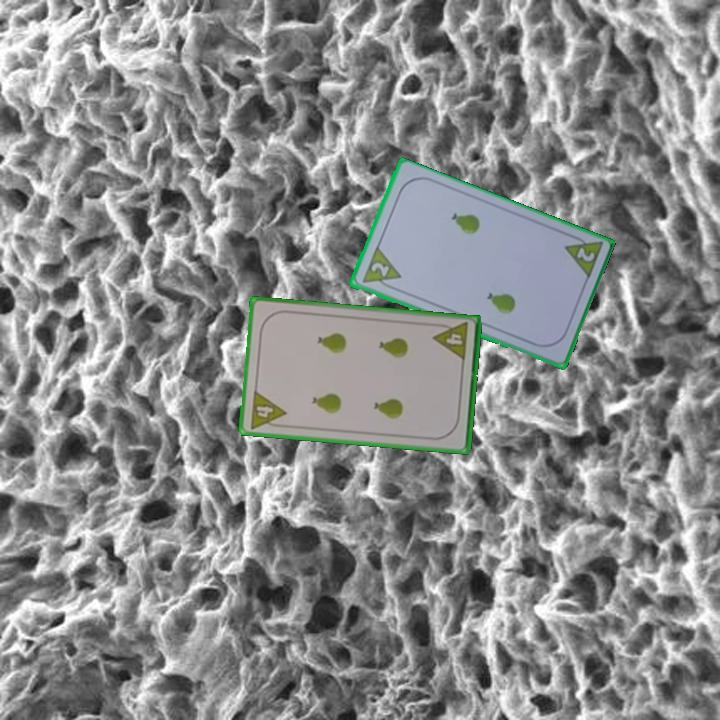2p: (560, 230, 605, 282), (358, 244, 404, 294)
4p: (246, 387, 289, 432), (430, 319, 471, 363)
